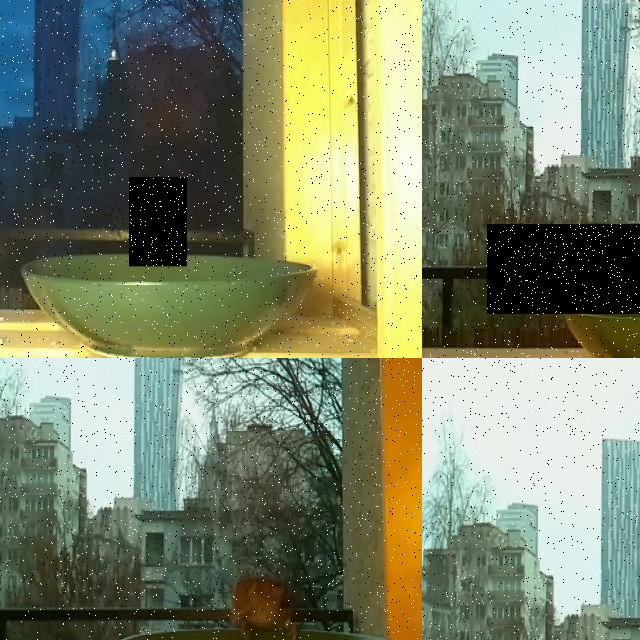Bogatka: (129, 177, 187, 266)
Wrobel: (487, 224, 640, 313), (229, 572, 304, 638)
